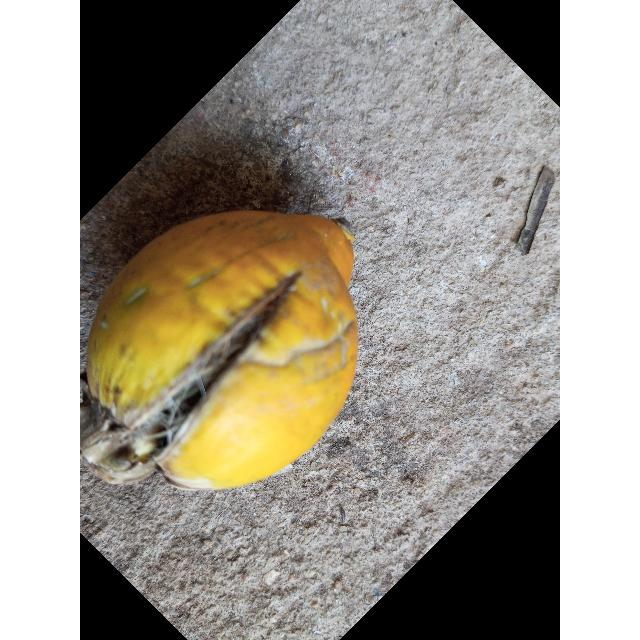damaged: (80, 209, 359, 492)
